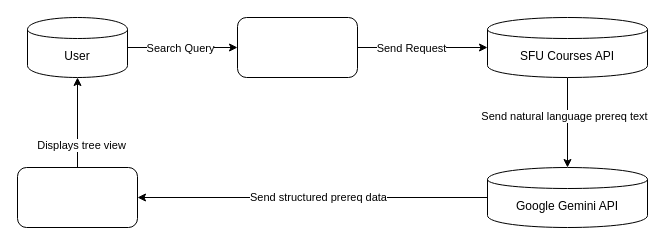
The diagram is 665 pixels wide and 245 high, and some of its shapes have lost their labels. The centre of each missing label's shape, as x and y in pixels:
"Input Handler" goes at (297,47).
"Visualization (D3.js Library)" goes at (77,197).
